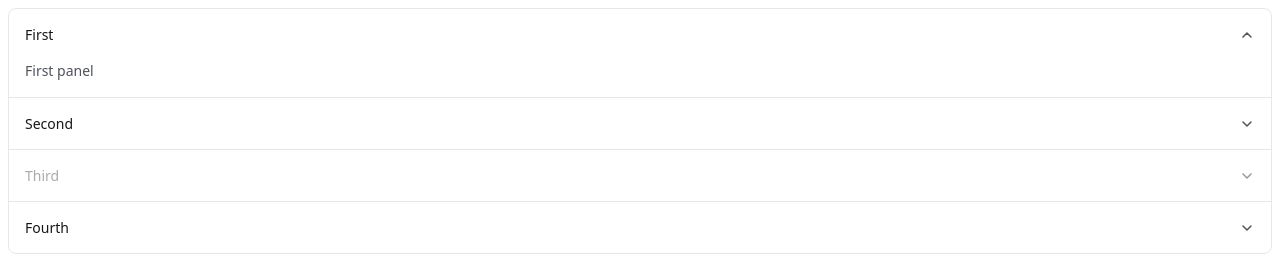
Accordion › keeps only one panel open in single mode
The image size is (1280, 271).
Expected: the text "First panel" is shown, 25,61 -> 94,80
Step 1. Click the button "Second" → [49, 124], box 9,98 -> 1271,149
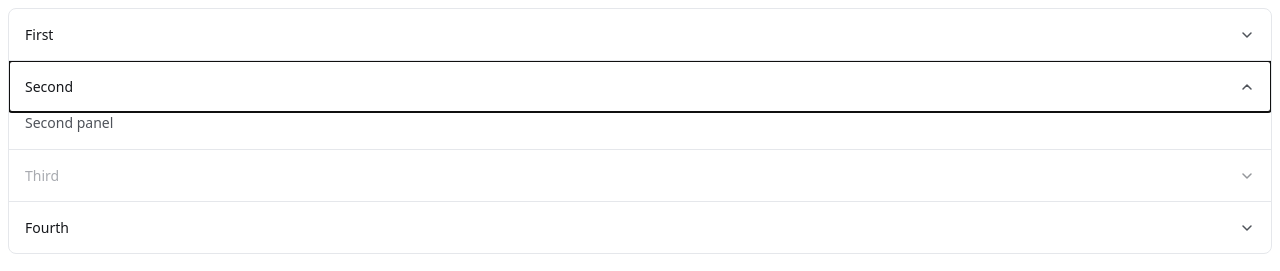
Now the text "Second panel" is shown, box 25,113 -> 113,132
Now the text "First panel" is gone
